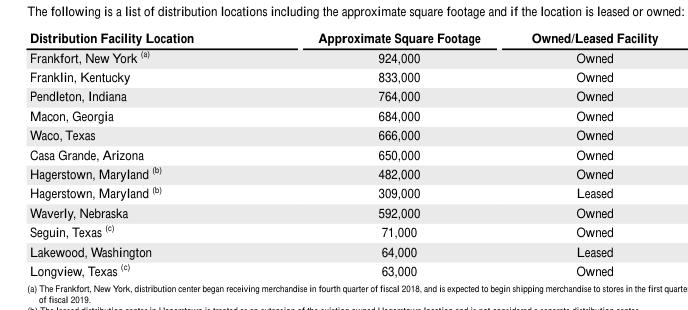table: (28, 28, 657, 278)
table column: (255, 28, 505, 278), (28, 28, 255, 278), (505, 28, 657, 278)
table column header: (28, 28, 657, 46)
table row: (28, 46, 657, 66), (28, 85, 657, 105), (28, 162, 657, 182), (28, 182, 657, 202), (28, 220, 657, 240), (28, 66, 657, 85), (28, 105, 657, 124), (28, 124, 657, 143), (28, 143, 657, 162), (28, 240, 657, 259), (28, 259, 657, 278), (28, 28, 657, 46), (28, 202, 657, 220)
